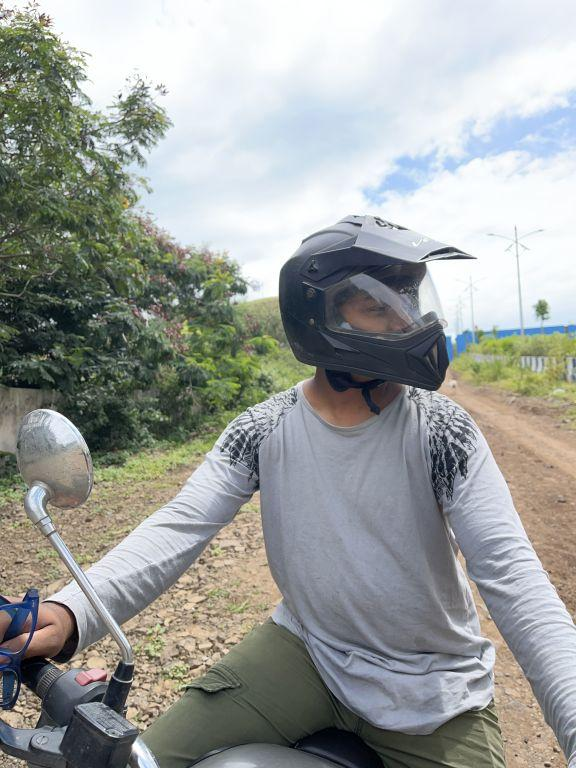helmet: (270, 189, 477, 406)
